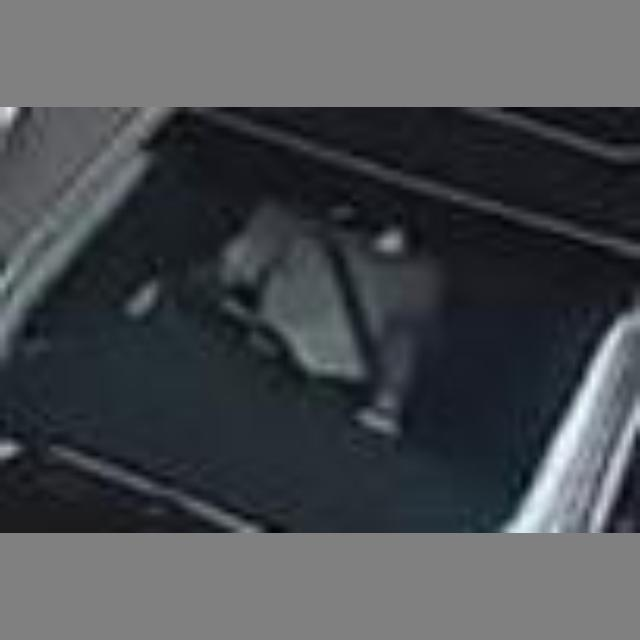pakai: (201, 176, 427, 408)
